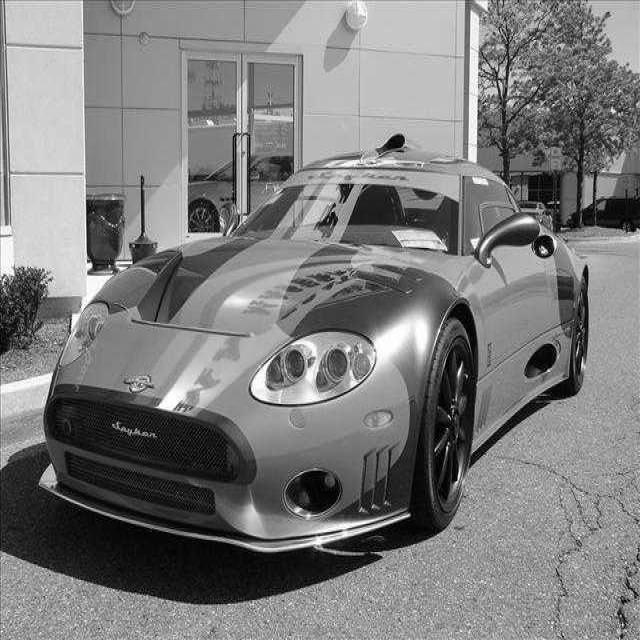car: (38, 133, 590, 555)
